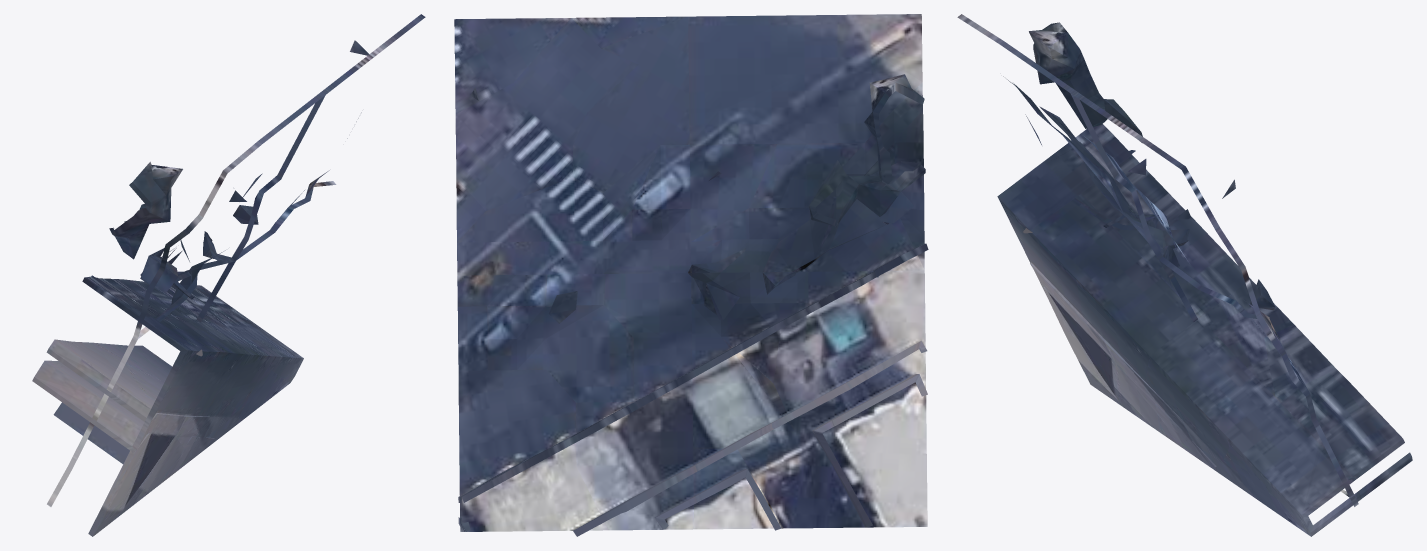
3 renders of one model, left to right at view 1: azimuth 30°, elevation 25°; view 2: azimuth 150°, elevation 25°; view 3: azimuth 270°, elevation 25°, orthographic. The views are drawn at different scales.
Size of the model in its own units: 39.12 by 36.32 by 37.03.
Materials: 1 (1 with a texture image).
